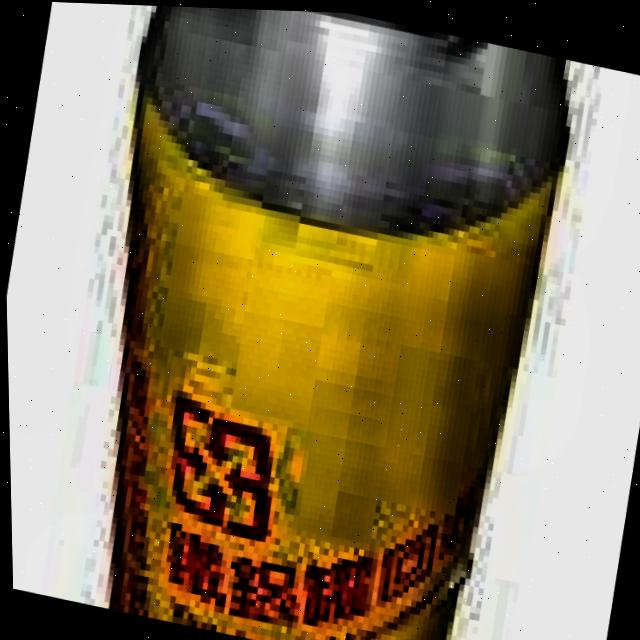metal: (17, 0, 600, 640)
